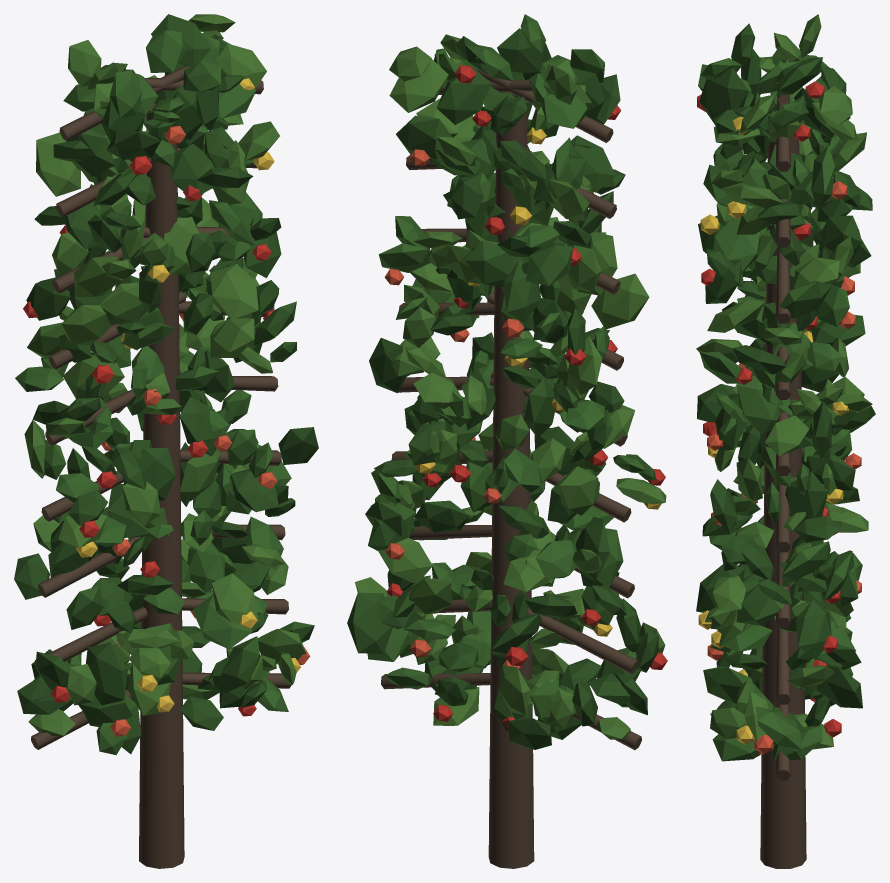
Rendered from appleTreeLow.glb.
3 views of the same model, side by side, from view 1: azimuth 30°, elevation 25°; view 2: azimuth 150°, elevation 25°; view 3: azimuth 270°, elevation 25° (orthographic).
Parts seen in each view (by area): view 1: leaves0, leaves2, leaves1, trunk, branches, apples0, apples2, apples1; view 2: leaves0, leaves2, leaves1, trunk, branches, apples0, apples1, apples2; view 3: leaves0, leaves1, leaves2, trunk, branches, apples0, apples2, apples1.
Boxes of the visible parts, left/top/right/bottom form: leaves0: left=14, top=14, right=318, bottom=730; leaves2: left=24, top=14, right=306, bottom=735; leaves1: left=15, top=30, right=314, bottom=755; trunk: left=139, top=103, right=184, bottom=868; branches: left=31, top=65, right=291, bottom=749; apples0: left=23, top=156, right=273, bottom=716; apples2: left=75, top=78, right=300, bottom=712; apples1: left=101, top=126, right=310, bottom=736; leaves0: left=347, top=28, right=658, bottom=749; leaves2: left=355, top=34, right=666, bottom=739; leaves1: left=365, top=14, right=645, bottom=739; trunk: left=488, top=112, right=534, bottom=868; branches: left=381, top=69, right=641, bottom=750; apples0: left=386, top=65, right=667, bottom=729; apples1: left=384, top=149, right=581, bottom=669; apples2: left=414, top=127, right=661, bottom=636; leaves0: left=696, top=49, right=872, bottom=750; leaves1: left=699, top=23, right=875, bottom=761; leaves2: left=696, top=14, right=872, bottom=749; trunk: left=760, top=135, right=806, bottom=868; branches: left=775, top=84, right=790, bottom=780; apples0: left=697, top=81, right=852, bottom=758; apples2: left=698, top=116, right=848, bottom=744; apples1: left=707, top=181, right=861, bottom=754.
Size of the model in its own units: 1.26 by 3.51 by 0.7012.
